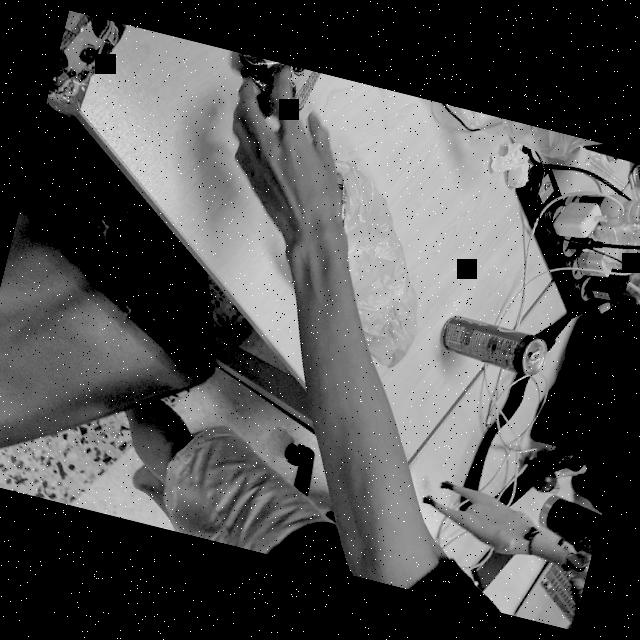can: (433, 308, 552, 381)
plastic_bag: (276, 152, 457, 377), (442, 104, 616, 174)
plastic_bottle: (550, 180, 640, 238)
plastic_box: (619, 176, 640, 265)
plastic_cup: (587, 248, 640, 309)
scrap_paper: (482, 134, 540, 191)
snack_bag: (42, 10, 131, 130), (220, 51, 328, 127)
straw: (619, 276, 640, 303)
